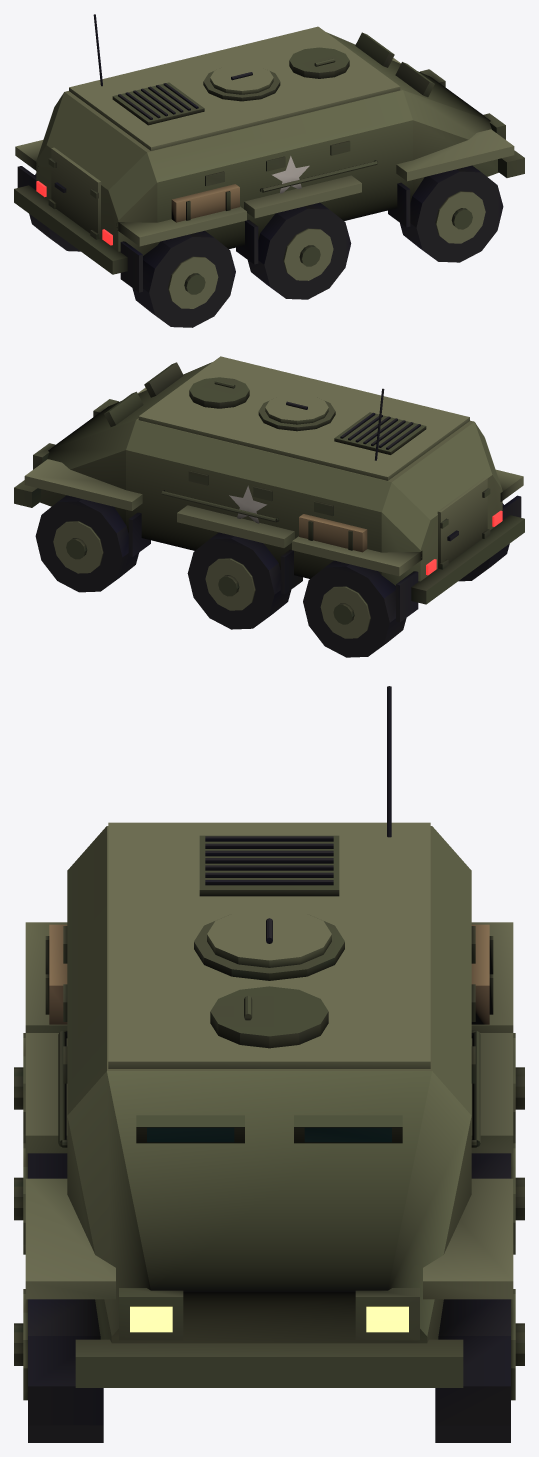
Rendered from veh.military-apc.unarmed.lod1.glb.
3 views of the same model, one above another, from view 1: azimuth 30°, elevation 25°; view 2: azimuth 150°, elevation 25°; view 3: azimuth 270°, elevation 25° (orthographic). The views are drawn at different scales.
Visible parts, largest first — view 1: body, wheelRL, wheelFL, wheelML, wheelRR; view 2: body, wheelRR, wheelFR, wheelMR, wheelRL; view 3: body, wheelFL, wheelFR, lightsFront, wheelML, wheelMR.
Boxes of the visible parts, x1,y1,x2,y2 form: body: (14,14,524,292); wheelRL: (132,230,235,327); wheelFL: (400,165,503,262); wheelML: (247,202,351,299); wheelRR: (29,173,80,251); body: (14,356,524,622); wheelRR: (303,560,406,657); wheelFR: (35,495,139,592); wheelMR: (187,532,291,629); wheelRL: (458,503,509,581); body: (25,686,513,1387); wheelFL: (14,1289,103,1442); wheelFR: (435,1289,524,1442); lightsFront: (130,1306,408,1332); wheelML: (14,1143,67,1254); wheelMR: (471,1143,524,1254).
Size of the model in its own units: 5.69 by 3.26 by 3.11.
